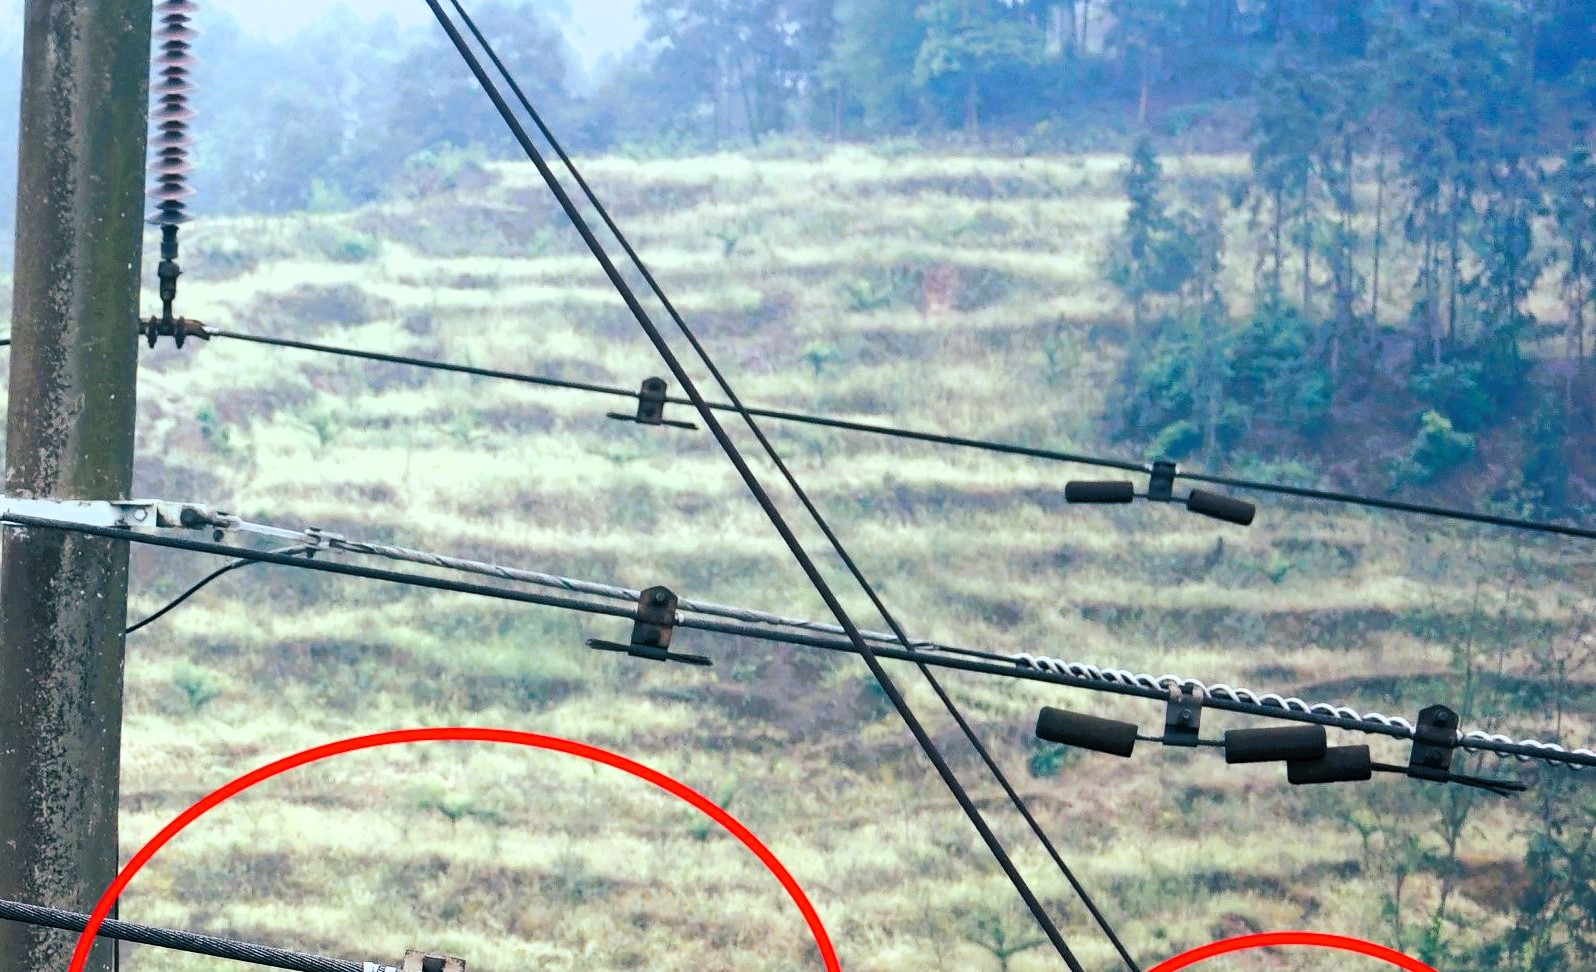Damage of shockproof hammer: (1284, 693, 1539, 824), (575, 572, 738, 699), (594, 366, 714, 454)
